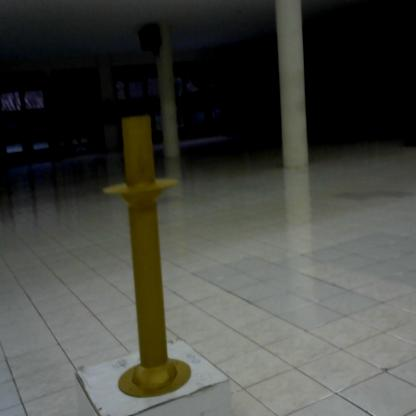pole: (98, 110, 194, 413)
